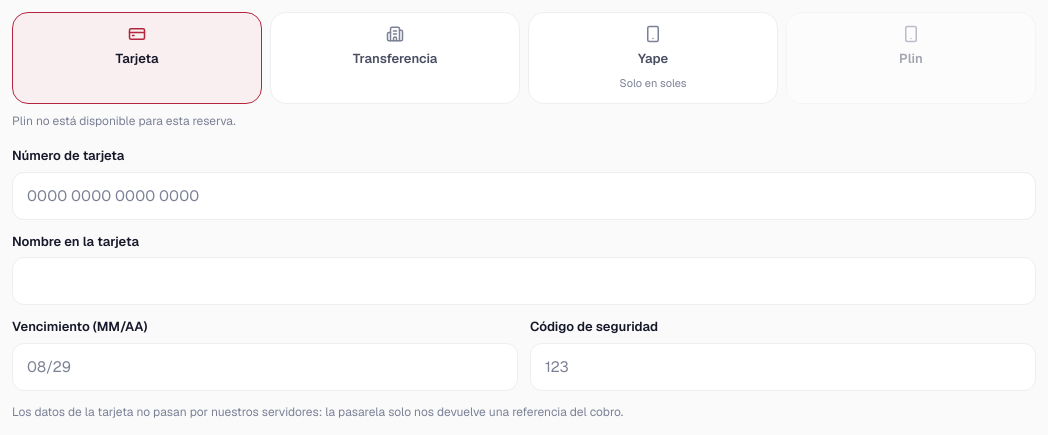
Test: medios de pago del checkout › la transferencia muestra las cuentas y pide el número de operación
The image size is (1048, 435).
Later steps or results of the test are not shown.
Click the radio button labelled "Transferencia".
click(395, 58)  # box [270,12,520,104]
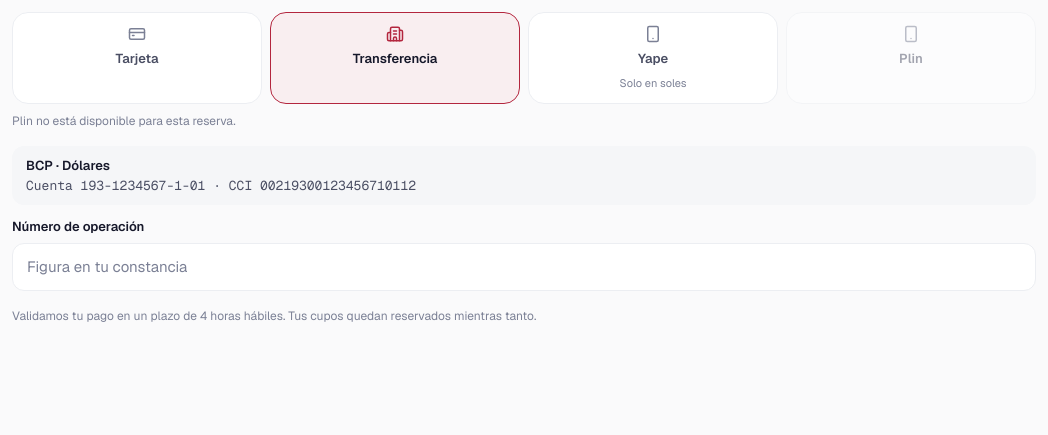
Result: the text "Cuenta 193-1234567-1-01 · CCI 00219300123456710112" is shown at [26,176,416,194]
Result: the text "BCP · Dólares" is shown at [26,157,110,174]
